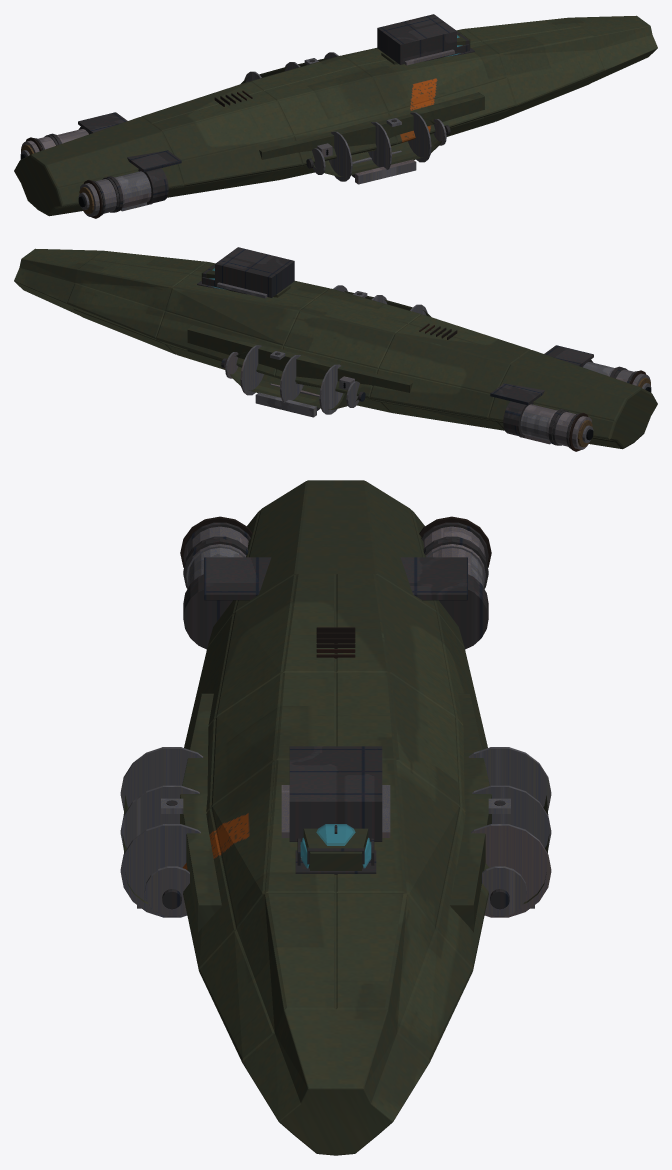
File: mule_production_v1_lod2.glb
The picture shows the model from 3 angles, top to bottom: view 1: azimuth 30°, elevation 25°; view 2: azimuth 150°, elevation 25°; view 3: azimuth 270°, elevation 25°; orthographic projection. The views are drawn at different scales.
Parts seen in each view (by area): view 1: LOD2_Hull, LOD2_Mechanical, LOD2_Armor, LOD2_Radiator; view 2: LOD2_Hull, LOD2_Mechanical, LOD2_Armor, LOD2_Radiator; view 3: LOD2_Hull, LOD2_Mechanical, LOD2_Armor, LOD2_Radiator, LOD2_Canopy.
Boxes of the visible parts, x1,y1,x2,y2 form: LOD2_Hull: [14, 15, 657, 216]; LOD2_Mechanical: [20, 49, 454, 216]; LOD2_Armor: [34, 14, 474, 215]; LOD2_Radiator: [25, 90, 252, 218]; LOD2_Hull: [14, 248, 657, 449]; LOD2_Mechanical: [217, 282, 651, 449]; LOD2_Armor: [197, 247, 637, 448]; LOD2_Radiator: [419, 323, 646, 451]; LOD2_Hull: [122, 480, 549, 1155]; LOD2_Mechanical: [120, 526, 551, 917]; LOD2_Armor: [162, 522, 509, 909]; LOD2_Radiator: [180, 516, 491, 658]; LOD2_Canopy: [300, 824, 371, 868].
Size of what is drawn, in the model's own units: 17.51 by 2.95 by 5.39.
8 materials, 8 textured.
